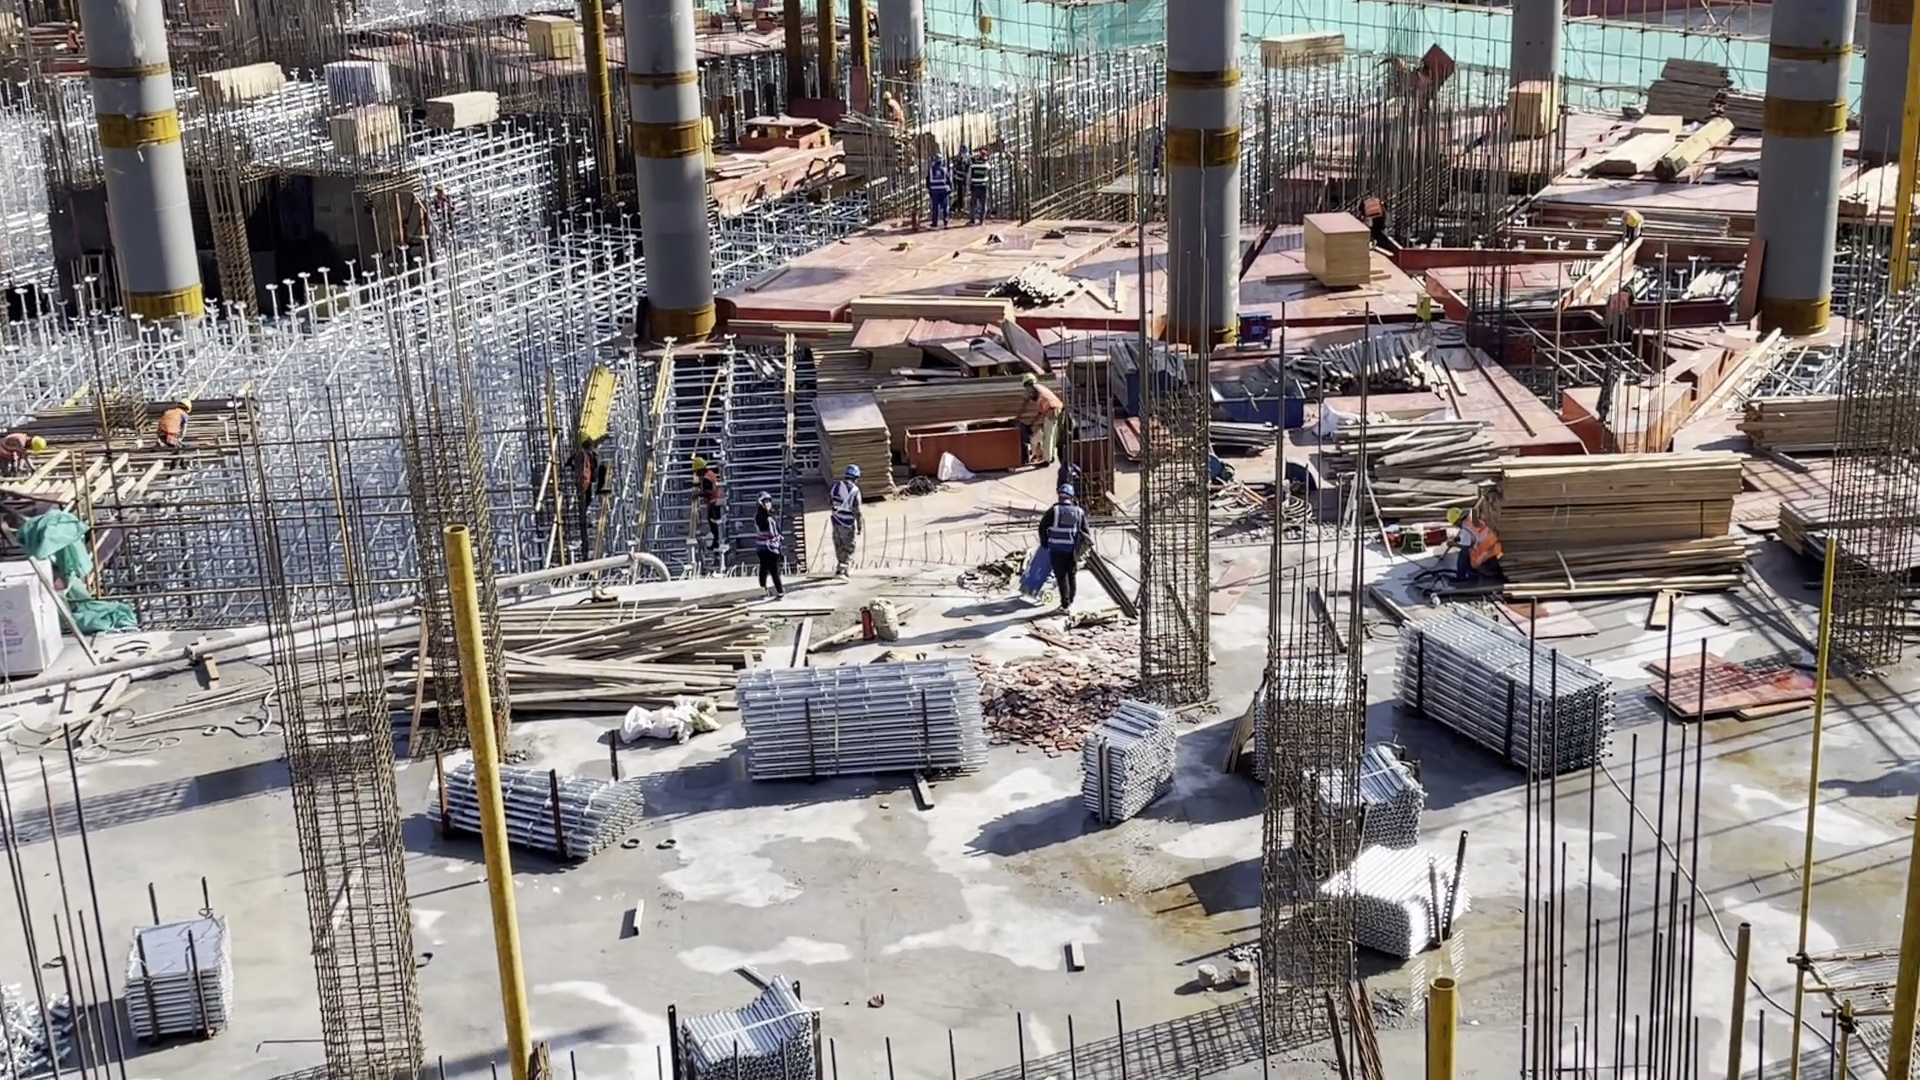board: (119, 911, 252, 1026), (887, 383, 1058, 462), (811, 392, 899, 493), (1793, 489, 1920, 559), (1301, 213, 1370, 299), (859, 320, 935, 385), (324, 109, 415, 156), (191, 56, 274, 104), (823, 346, 887, 402), (1506, 78, 1559, 142), (924, 320, 988, 368), (531, 11, 571, 61)
cutter: (768, 108, 832, 148)
helmet: (1056, 481, 1079, 500), (1447, 509, 1468, 528), (579, 427, 598, 446), (843, 461, 862, 479), (31, 436, 47, 451), (179, 397, 193, 414), (1022, 370, 1040, 383), (751, 490, 769, 503), (1388, 56, 1403, 69), (693, 457, 706, 472), (882, 85, 889, 106), (937, 151, 945, 166), (974, 148, 984, 158), (1362, 195, 1376, 199)
hopper: (1212, 377, 1315, 426)
person: (823, 461, 876, 579), (1047, 484, 1096, 611), (1443, 505, 1511, 577), (745, 485, 784, 596), (1026, 375, 1069, 472), (152, 393, 196, 478), (567, 431, 606, 519), (693, 445, 725, 547), (923, 158, 957, 224), (1356, 187, 1388, 244), (1, 428, 40, 478), (1403, 63, 1438, 118), (971, 147, 991, 226), (1384, 48, 1409, 94), (955, 139, 969, 211), (884, 88, 906, 128), (64, 20, 83, 59)
scaffold: (1406, 610, 1599, 775), (734, 669, 1000, 771), (433, 757, 637, 857), (687, 986, 829, 1080), (1093, 697, 1181, 820), (1337, 851, 1453, 936), (1305, 759, 1421, 830), (1256, 677, 1341, 768)
vest: (1044, 507, 1084, 573), (825, 483, 859, 535), (1463, 526, 1500, 571), (159, 409, 191, 459), (699, 477, 731, 525), (759, 506, 786, 560), (1031, 387, 1063, 431), (577, 455, 606, 494), (4, 426, 29, 459), (972, 162, 994, 198), (1365, 192, 1387, 227), (954, 153, 968, 190), (934, 162, 950, 191), (888, 101, 906, 125), (1414, 78, 1438, 94)
wood: (1483, 436, 1759, 684), (476, 591, 750, 693), (1633, 91, 1709, 182), (1265, 28, 1360, 74)
